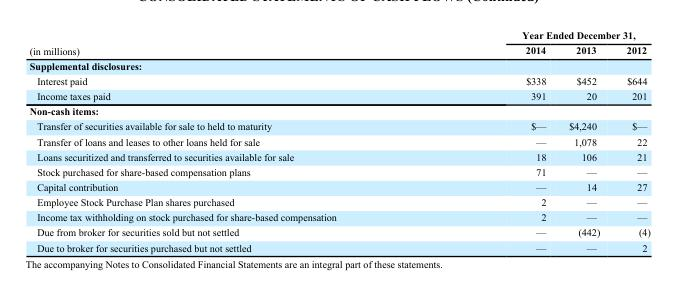table: (28, 29, 649, 252)
table column: (28, 29, 428, 252), (428, 29, 556, 252), (556, 29, 612, 252), (612, 29, 649, 252)
table column header: (28, 29, 649, 57)
table projected row header: (28, 57, 649, 72), (28, 103, 649, 118)
table row: (28, 72, 649, 88), (28, 178, 649, 194), (28, 42, 649, 57), (28, 57, 649, 72), (28, 88, 649, 103), (28, 103, 649, 118), (28, 118, 649, 133), (28, 133, 649, 148), (28, 148, 649, 163), (28, 163, 649, 178), (28, 194, 649, 209), (28, 209, 649, 224), (28, 224, 649, 239), (28, 29, 649, 42), (28, 239, 649, 252)
table spanning cell: (28, 29, 428, 57), (428, 29, 649, 42)
